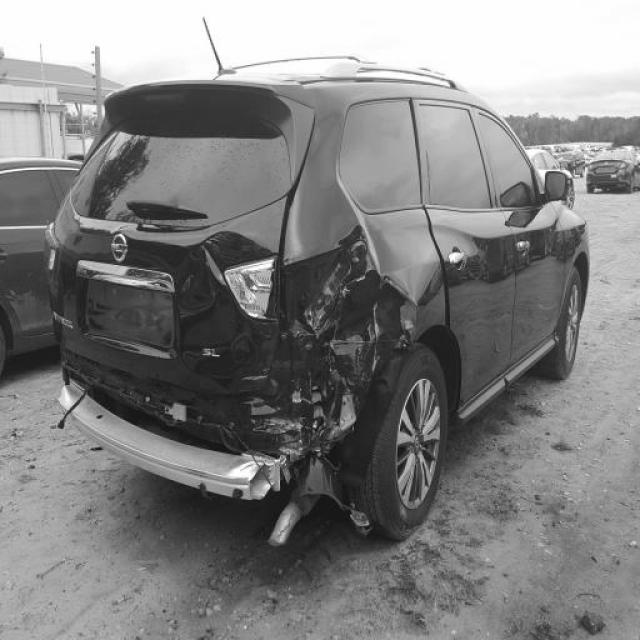crush: (207, 220, 426, 531), (57, 344, 238, 453)
